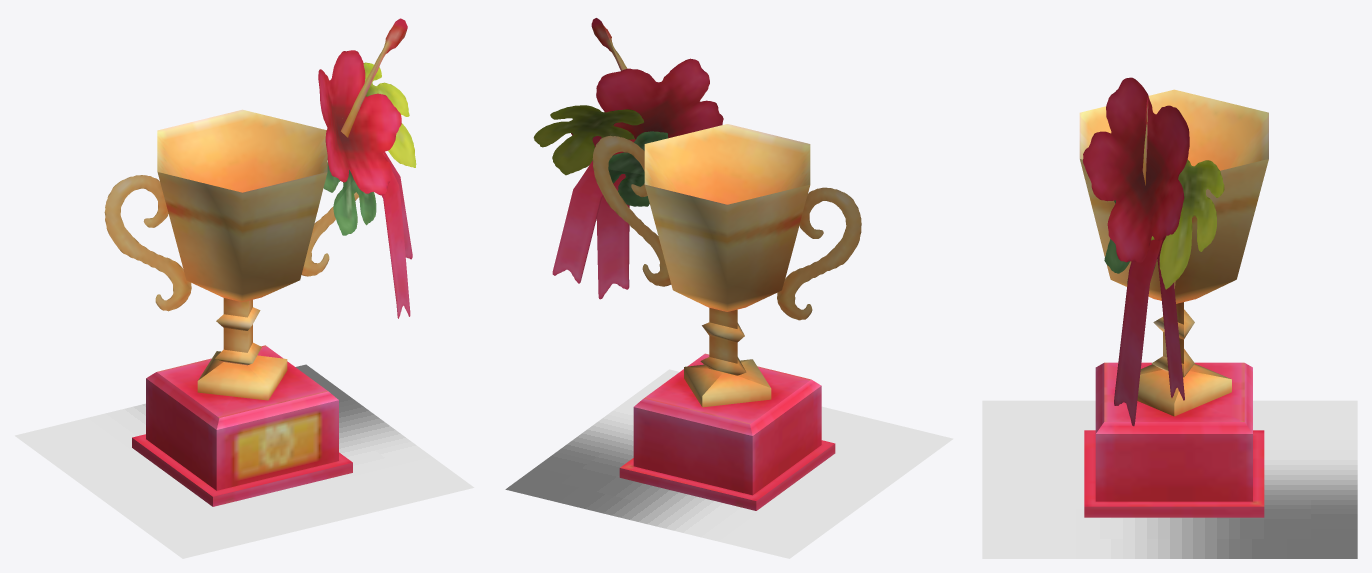
The model's file is trophies 1.dae.
The picture shows the model from 3 angles, left to right: view 1: azimuth 30°, elevation 25°; view 2: azimuth 150°, elevation 25°; view 3: azimuth 270°, elevation 25°; orthographic projection. The views are drawn at different scales.
Visible parts, largest first — view 1: vsn_mesh_1_mesh1, vsn_mesh_2_mesh2, vsn_mesh_0_mesh0; view 2: vsn_mesh_1_mesh1, vsn_mesh_2_mesh2, vsn_mesh_0_mesh0; view 3: vsn_mesh_1_mesh1, vsn_mesh_2_mesh2, vsn_mesh_0_mesh0.
Boxes of the visible parts, x1,y1,x2,y2 form: vsn_mesh_1_mesh1: (132, 109, 352, 506); vsn_mesh_2_mesh2: (15, 364, 474, 558); vsn_mesh_0_mesh0: (104, 18, 416, 318); vsn_mesh_1_mesh1: (619, 124, 835, 510); vsn_mesh_2_mesh2: (505, 369, 953, 558); vsn_mesh_0_mesh0: (533, 18, 861, 320); vsn_mesh_1_mesh1: (1079, 89, 1268, 517); vsn_mesh_2_mesh2: (982, 400, 1357, 558); vsn_mesh_0_mesh0: (1083, 77, 1224, 426).
Bounding box in the file's own units: 0.7944 × 0.5863 × 0.8087.
Materials: 2 (2 with a texture image).
